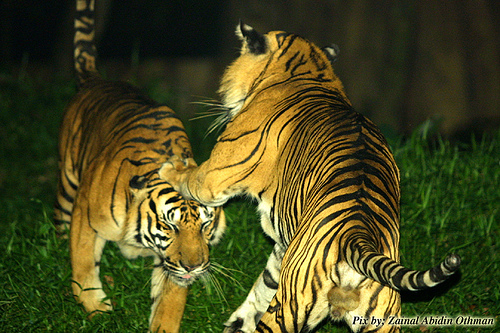Tigre: (209, 22, 420, 333), (47, 53, 218, 302)
